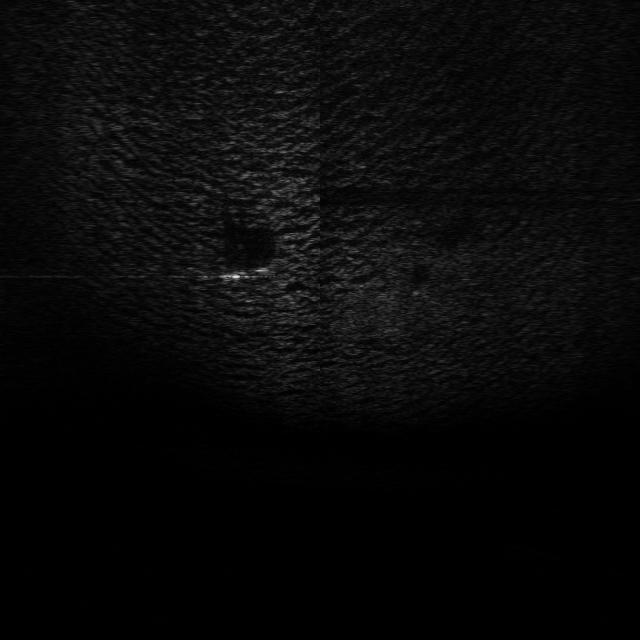plane: (222, 257, 287, 287)
